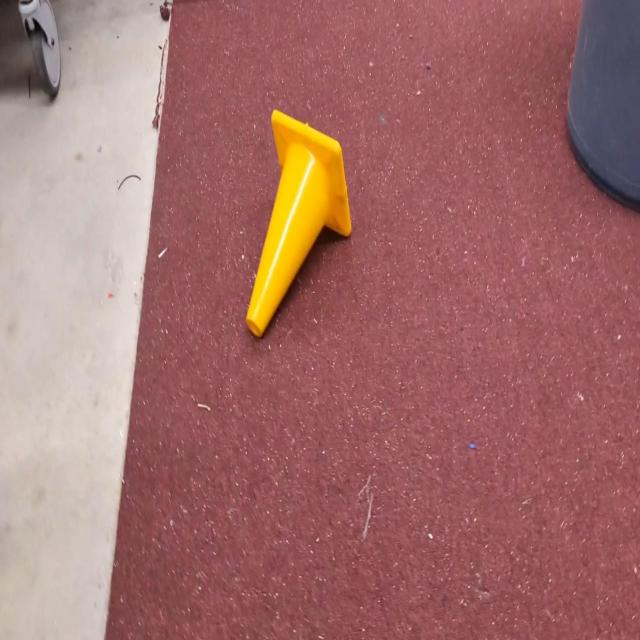frc_cone: (245, 109, 351, 338)
